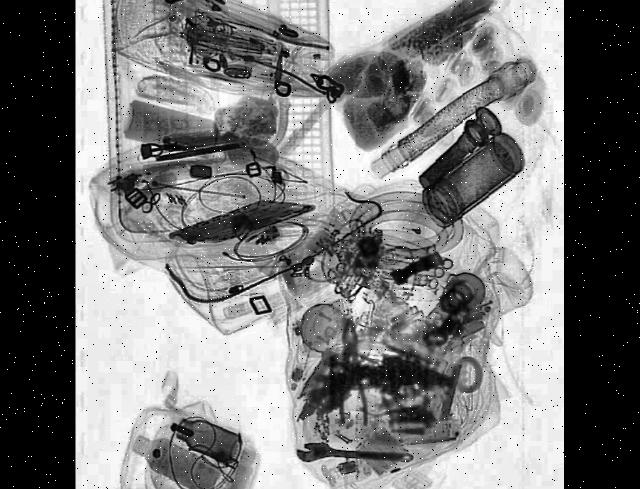Wrench: (297, 438, 414, 467)
